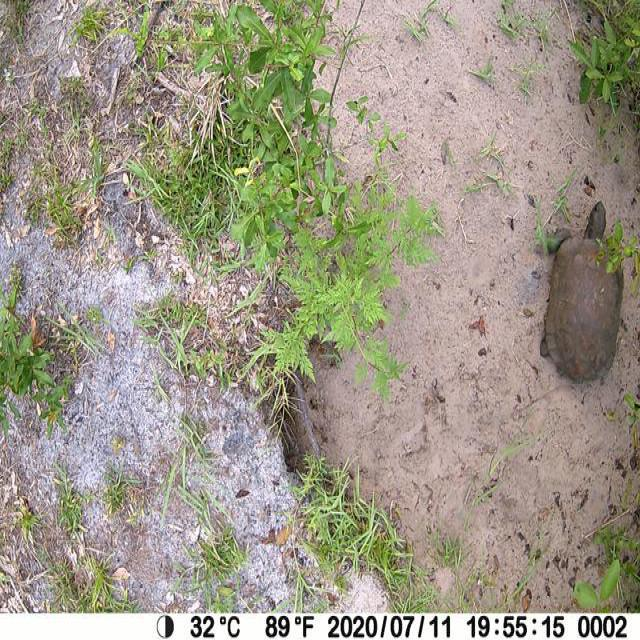tortoise: (536, 198, 625, 386)
